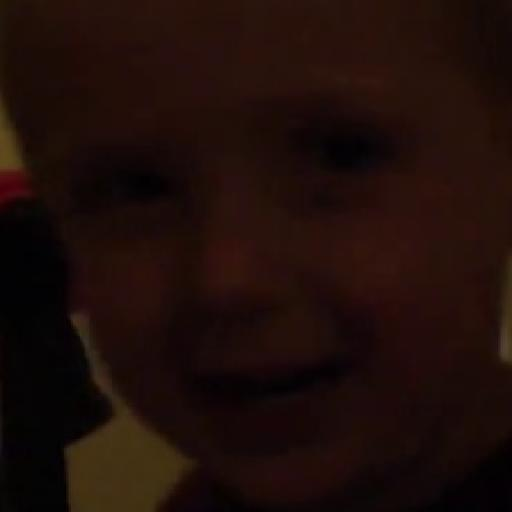Autism: (53, 26, 402, 480)
